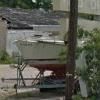Boat: (12, 28, 84, 77)
